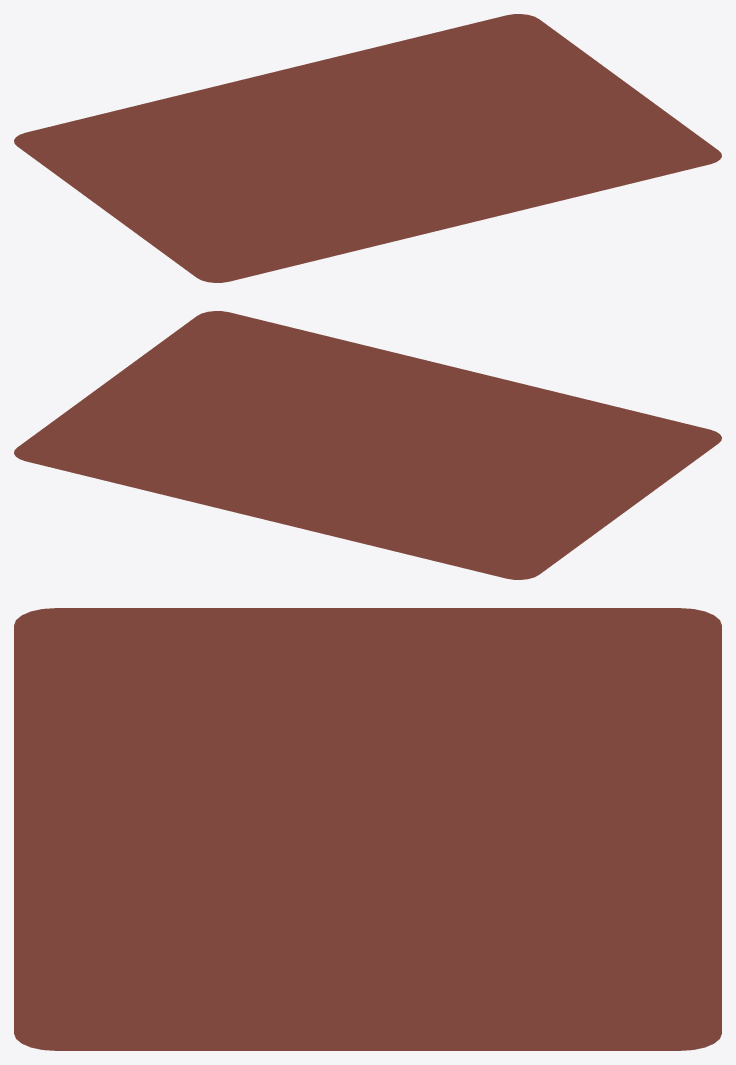
File: Card.fbx
3 renders of one model, top to bottom at view 1: azimuth 30°, elevation 25°; view 2: azimuth 150°, elevation 25°; view 3: azimuth 270°, elevation 25°, orthographic. The views are drawn at different scales.
Parts seen in each view (by area): view 1: Card; view 2: Card; view 3: Card.
Part boxes in pixels (<box>): Card: <box>14,14,721,282</box>; Card: <box>14,311,721,579</box>; Card: <box>14,608,721,1050</box>.
Size of the model in its own units: 20.93 by 0 by 14.14.
